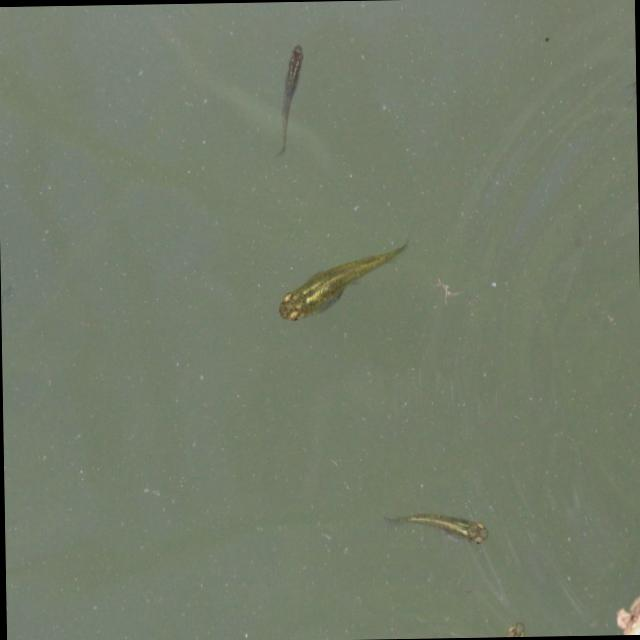Sivrisinek Baligi: (276, 236, 411, 322), (381, 501, 490, 550), (266, 36, 306, 161)
